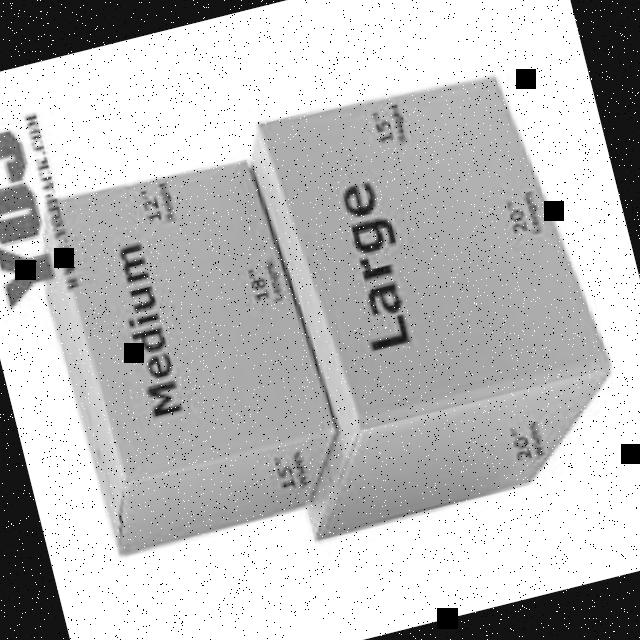cardboard_box: (177, 30, 630, 552), (11, 142, 350, 576)
